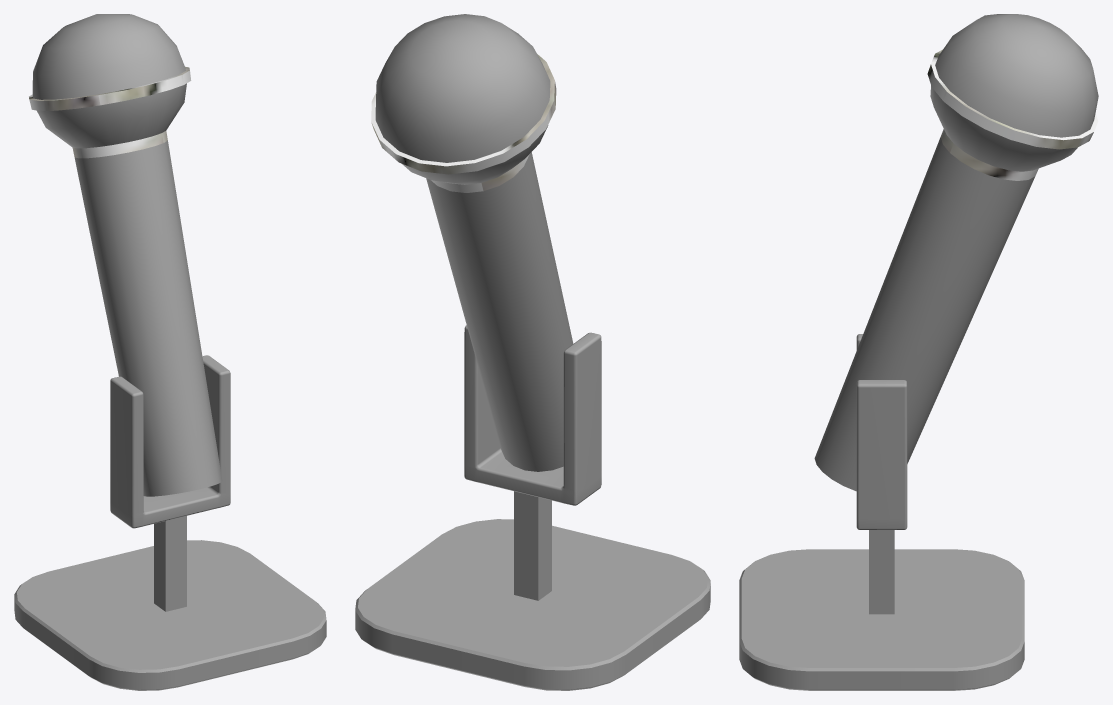
File: Microphone.fbx
3 renders of one model, left to right at view 1: azimuth 30°, elevation 25°; view 2: azimuth 150°, elevation 25°; view 3: azimuth 270°, elevation 25°, orthographic. The views are drawn at different scales.
Parts seen in each view (by area): view 1: pCylinder95; view 2: pCylinder95; view 3: pCylinder95.
Part boxes in pixels (x1,y1,x2,y2): pCylinder95: (14,14,326,690); pCylinder95: (355,14,710,690); pCylinder95: (739,14,1098,690).
Bounding box in the file's own units: 6.62 × 15.53 × 8.3.
